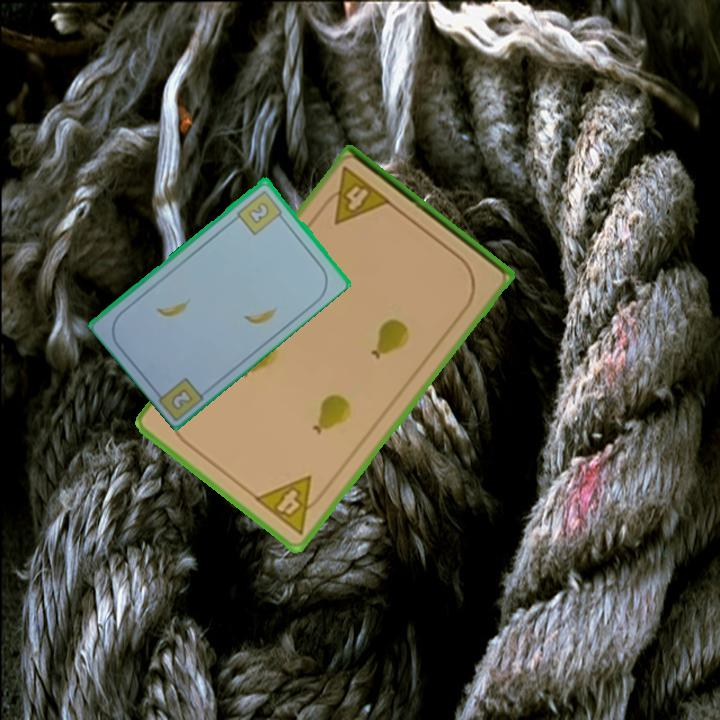2b: (233, 186, 287, 237), (167, 384, 196, 413)
4p: (250, 472, 331, 539), (316, 163, 395, 228)
